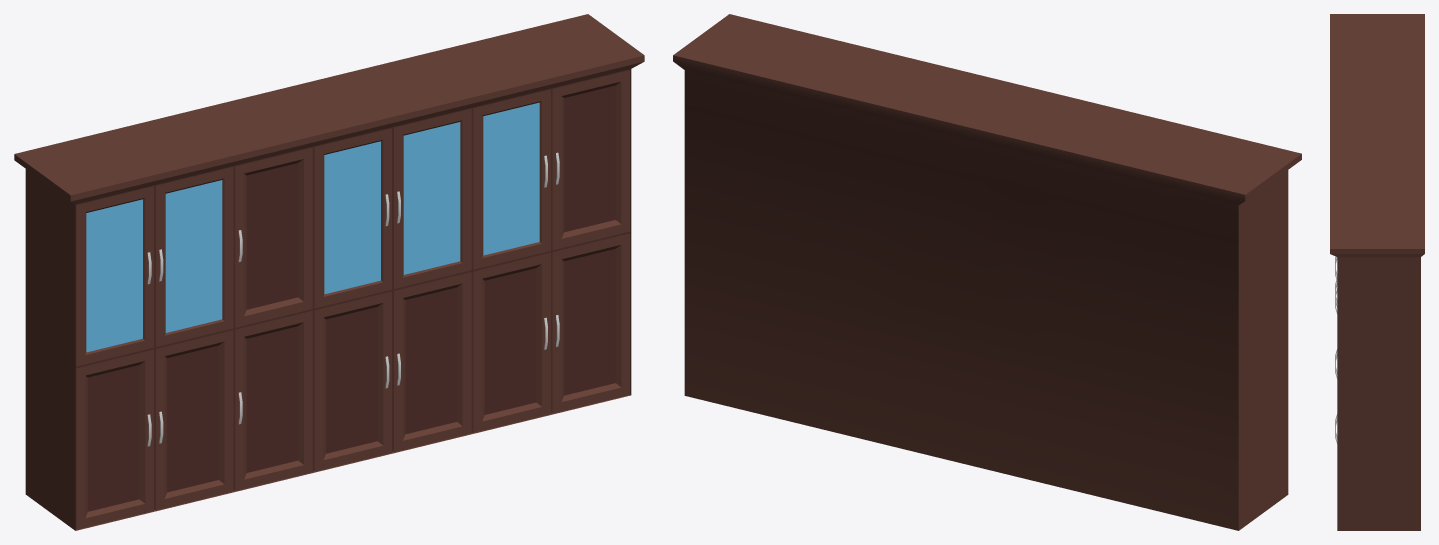
The model's file is closet_006.glb.
3 renders of one model, left to right at view 1: azimuth 30°, elevation 25°; view 2: azimuth 150°, elevation 25°; view 3: azimuth 270°, elevation 25°, orthographic. The views are drawn at different scales.
Parts seen in each view (by area): view 1: closet_006; view 2: closet_006; view 3: closet_006.
Part boxes in pixels (x1,y1,x2,y2): closet_006: (14,14,644,530); closet_006: (673,14,1301,530); closet_006: (1330,14,1424,530).
Bounding box in the file's own units: 4.69 × 2.66 × 0.7998.
Materials: 1 (1 with a texture image).
